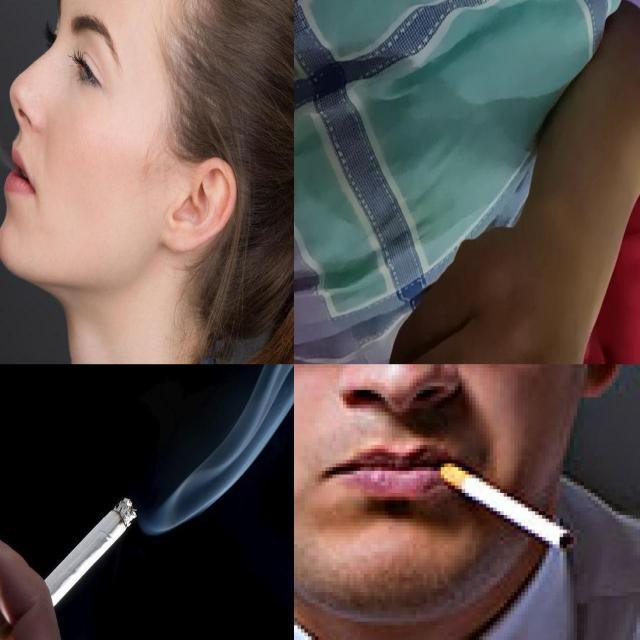cigarette: (0, 496, 138, 639), (436, 460, 576, 552)
